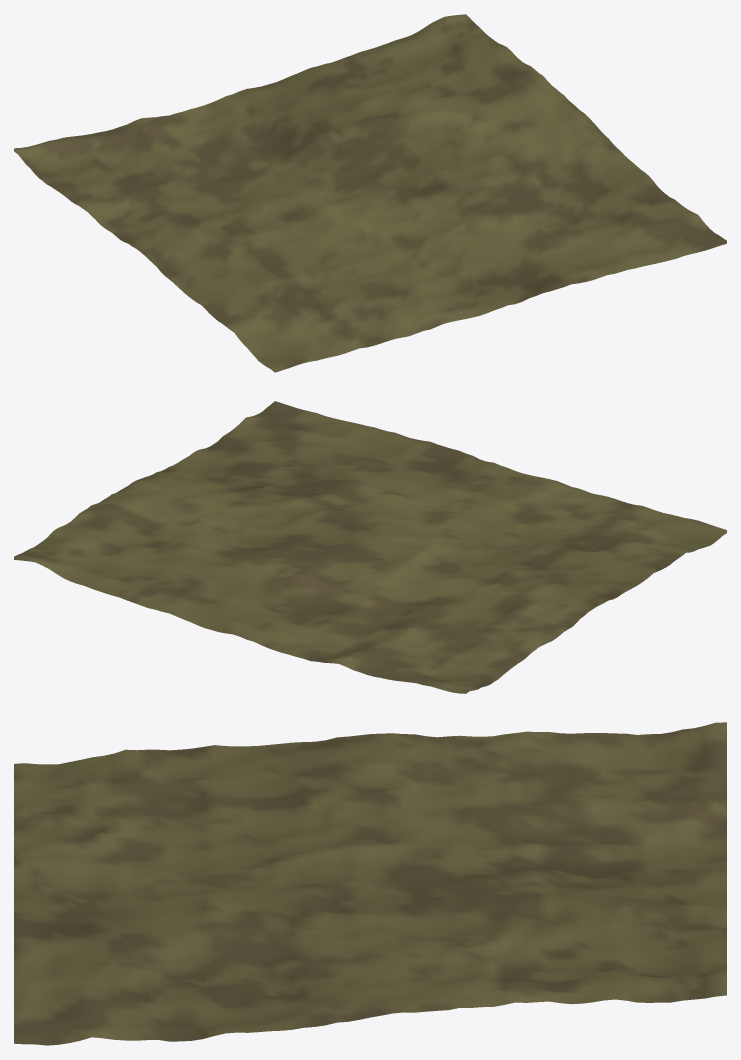
Rendered from land_f_05_02.glb.
3 views of the same model, one above another, from view 1: azimuth 30°, elevation 25°; view 2: azimuth 150°, elevation 25°; view 3: azimuth 270°, elevation 25° (orthographic). The views are drawn at different scales.
Parts seen in each view (by area): view 1: land_f_05_02; view 2: land_f_05_02; view 3: land_f_05_02.
Boxes of the visible parts, x1,y1,x2,y2 form: land_f_05_02: (14,14,726,372); land_f_05_02: (14,401,726,693); land_f_05_02: (14,722,726,1045).
Bounding box in the file's own units: 3840 × 490 × 3840.
